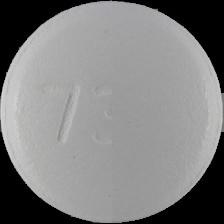63187-178: (0, 0, 224, 224)
